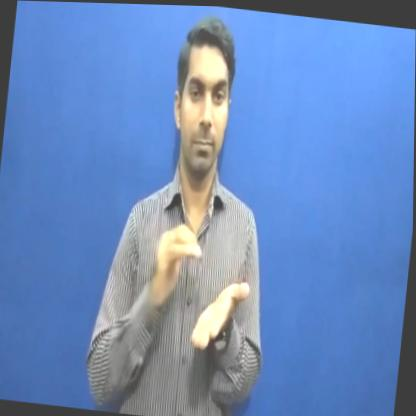ExcuseMe: (139, 218, 255, 366)
